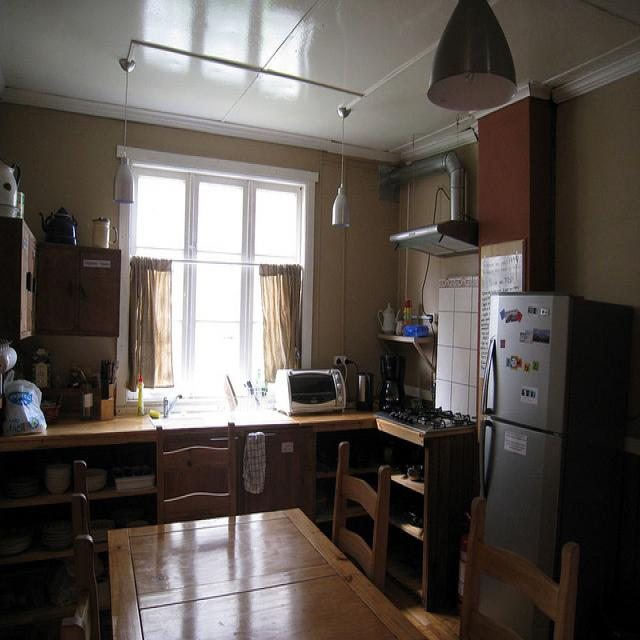chair: (456, 488, 579, 640), (332, 442, 391, 594), (156, 422, 238, 522), (71, 460, 109, 630)
dining table: (108, 509, 426, 640)
